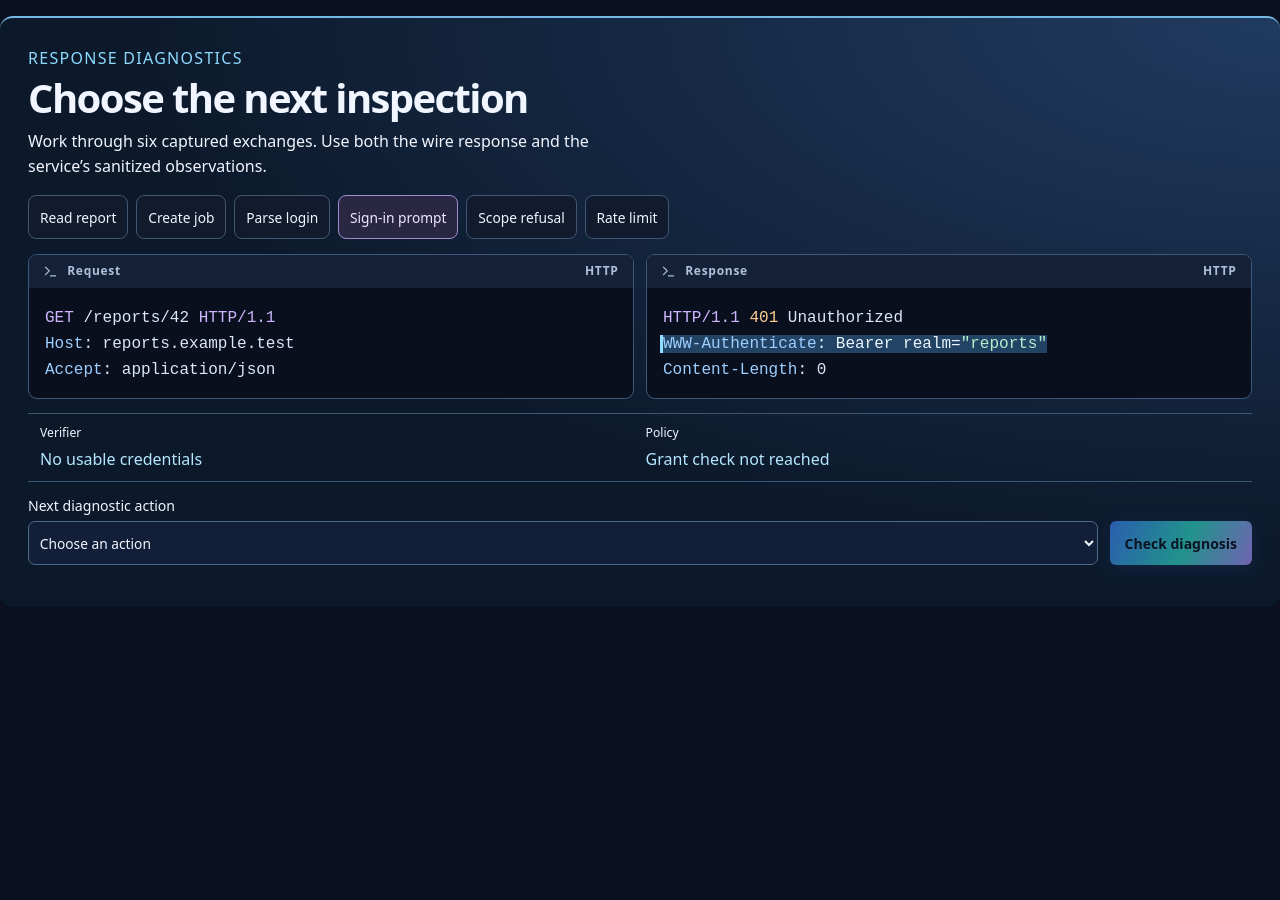
Test: rejects and clears stale diagnostic feedback on a new case
Select "Investigate the missing permission" in the dropdown labelled "Next diagnostic action" at (563, 543), box [28,521,1098,565]
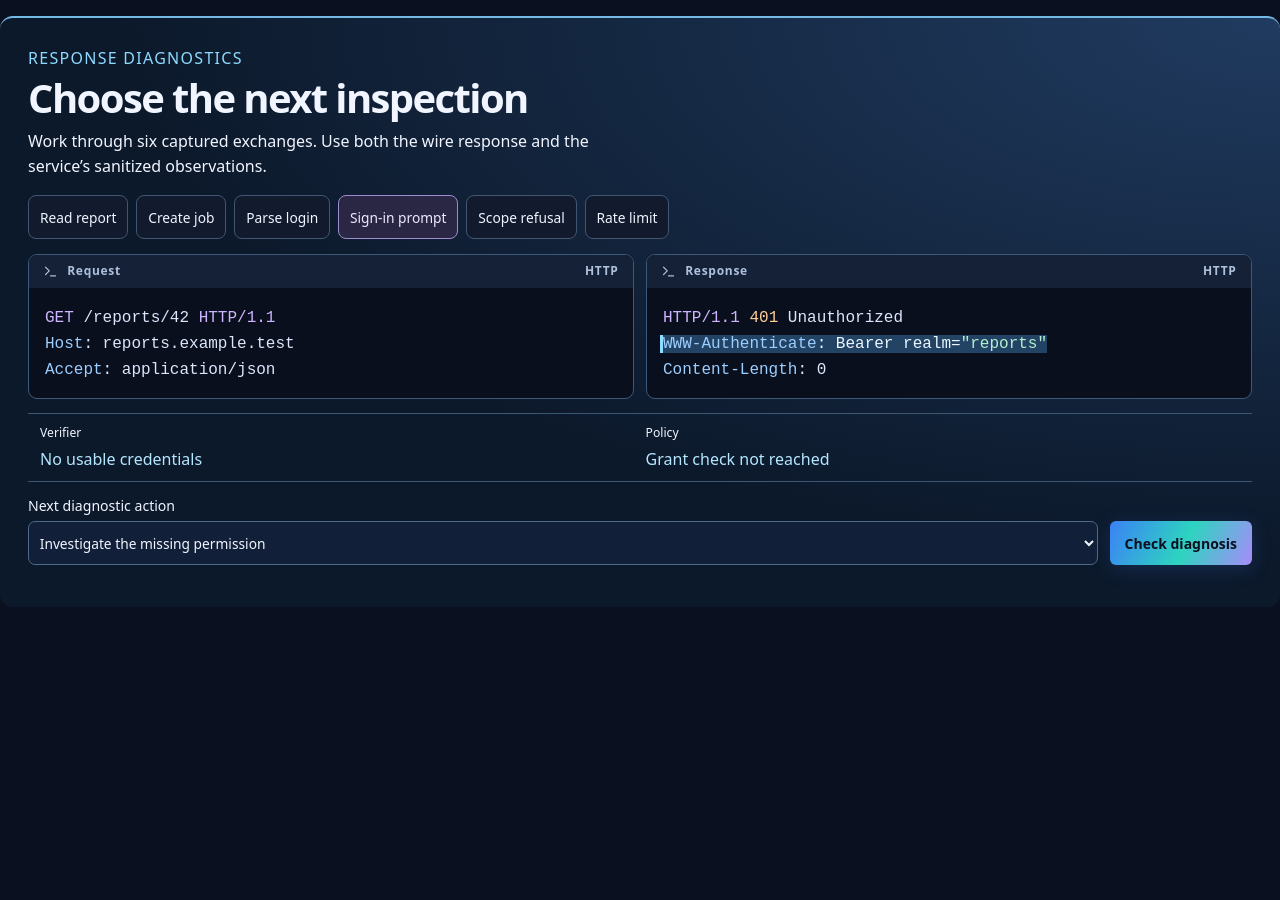
Click the button "Check diagnosis" at (1181, 543), box [1110,521,1252,565]
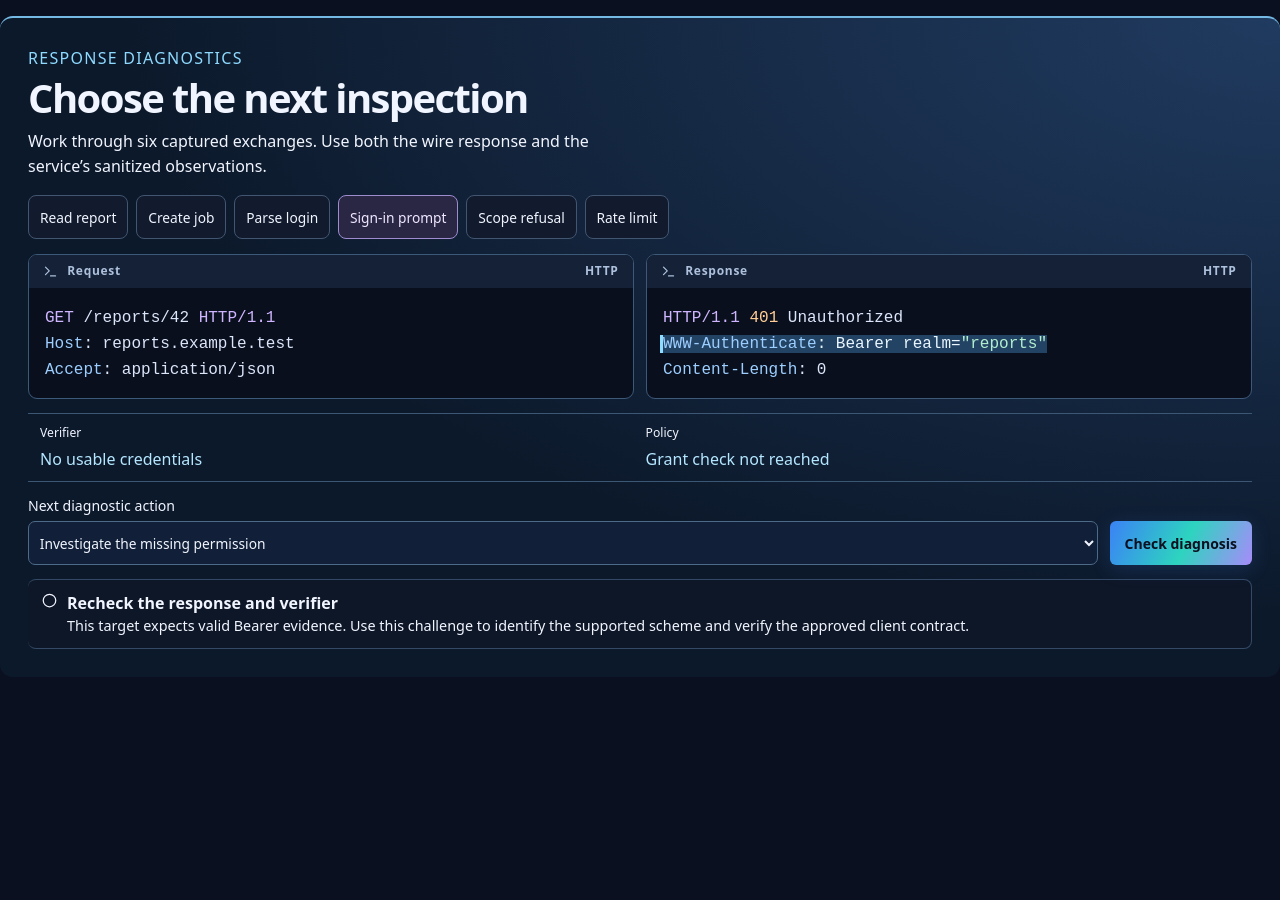
Now the message shows "Recheck the response and verifier", box [67,592,338,614]
Click the button "Scope refusal" at (522, 217), box [466,195,577,239]
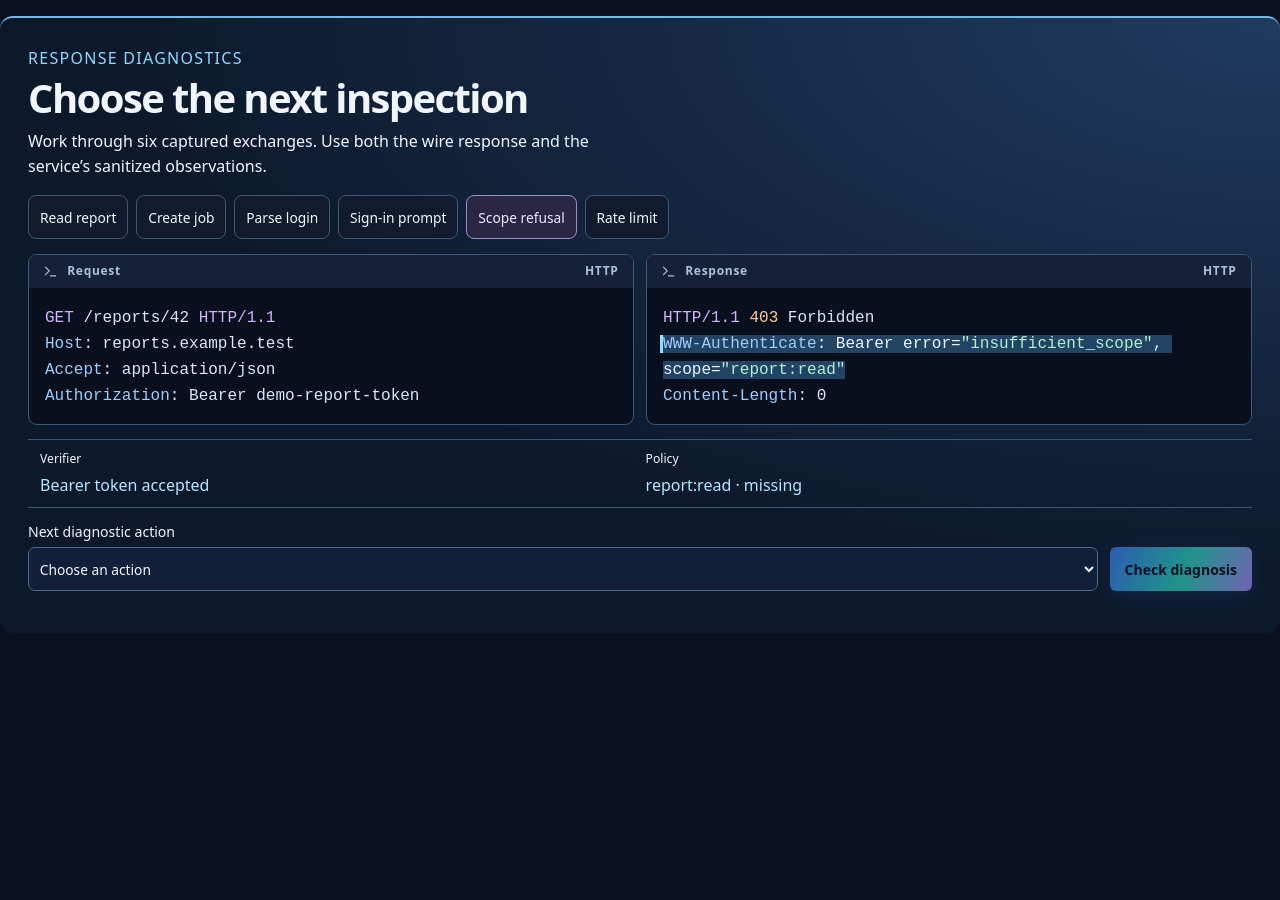
Now the message is gone
Now the button "Check diagnosis" is disabled, box [1110,547,1252,591]
